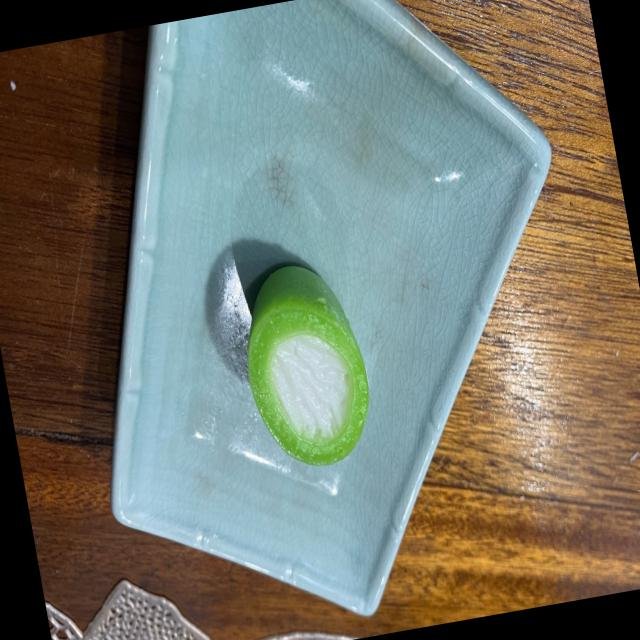nona-manis: (247, 265, 369, 465)
